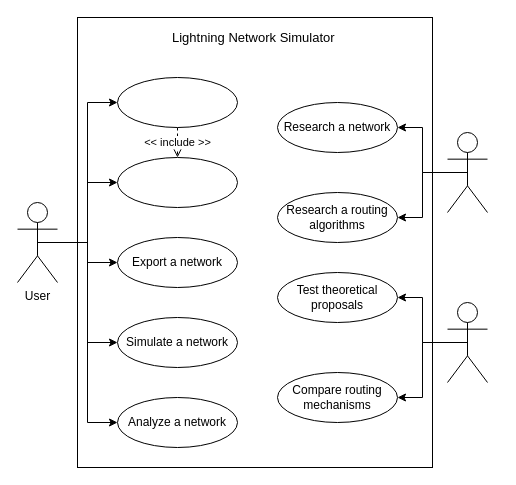
The diagram is 516 pixels wide and 485 high, and some of its shapes have lost their labels. The shapes that lost their labels are listed below. From the top down, each one's centre as x and y in pixels, then its label:
At point 177,102: "Create a network".
At point 177,182: "Load a network".
At point 467,172: "Researcher".
At point 467,342: "Developer".
